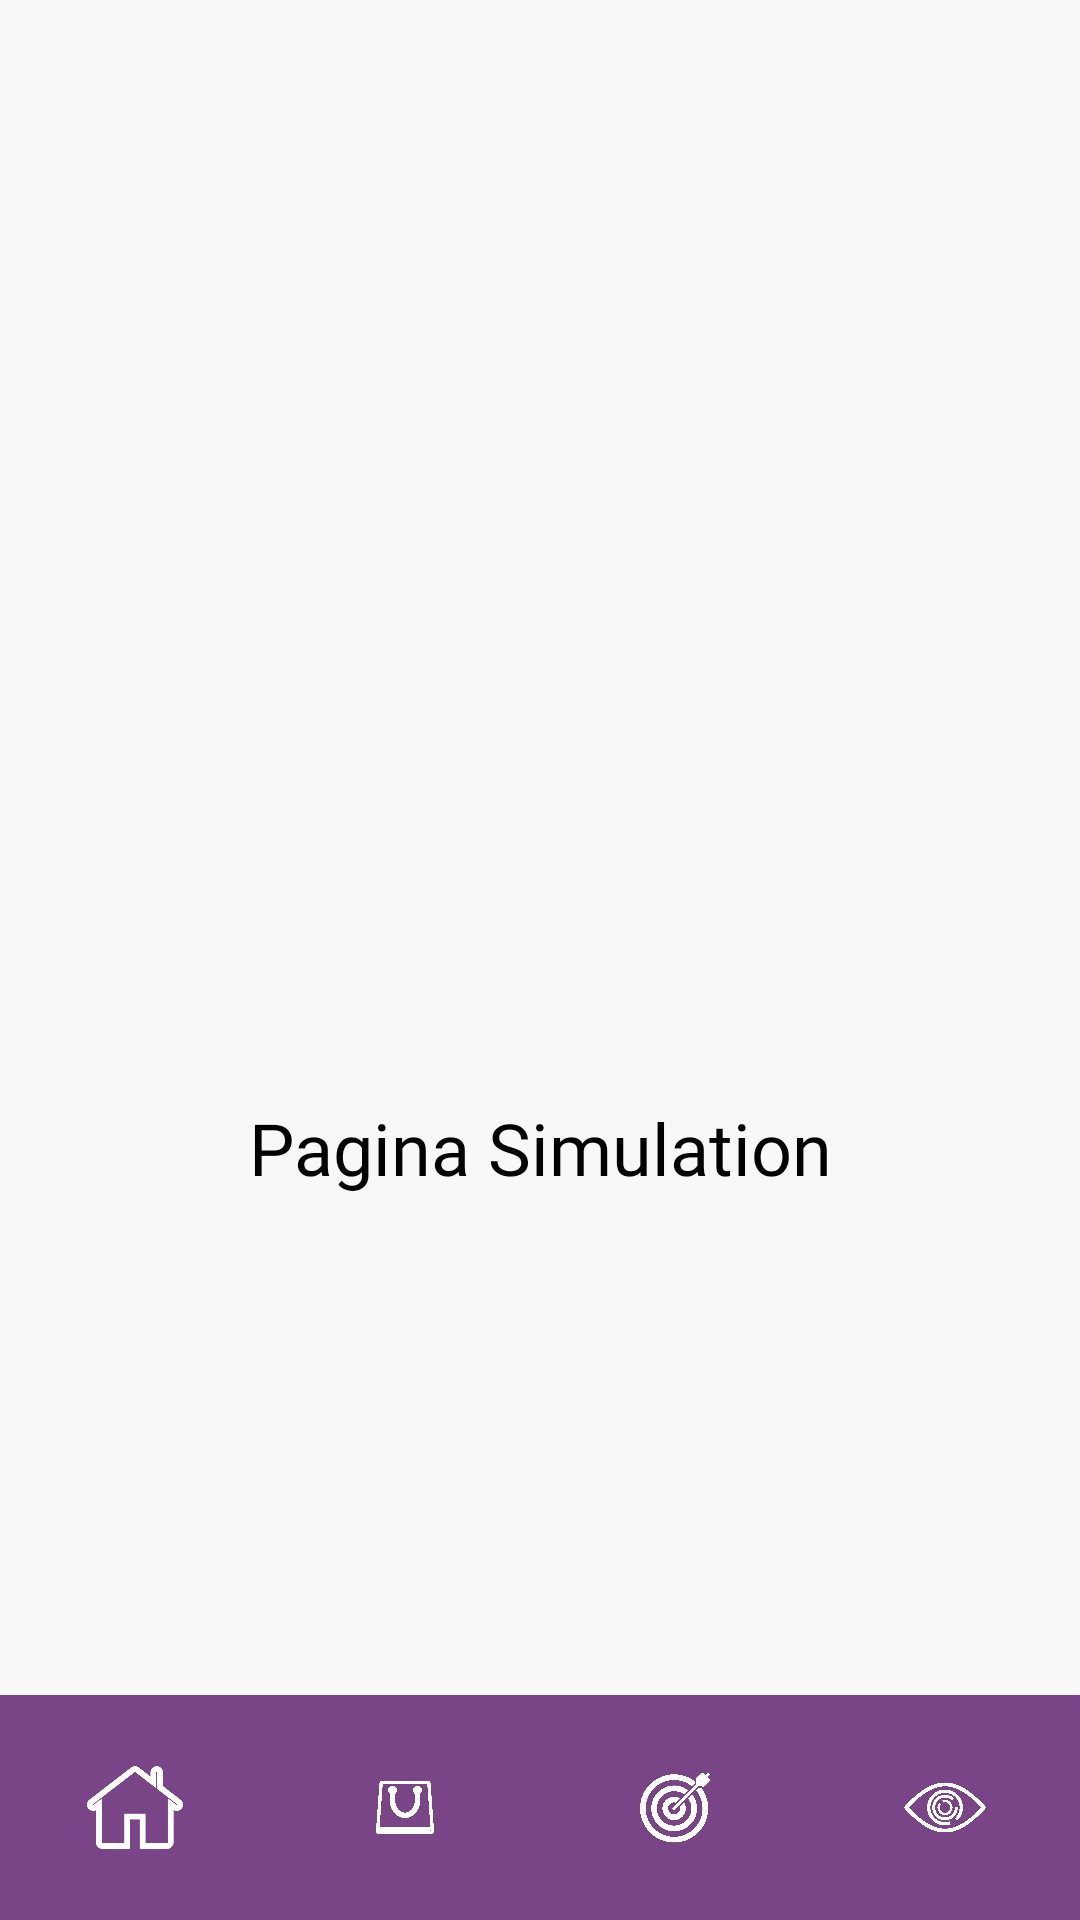

Screen size 1080px x 1920px. Icon name, then its center in pixels as [x,y]:
Goals: [675,1808]
Home: [135,1807]
